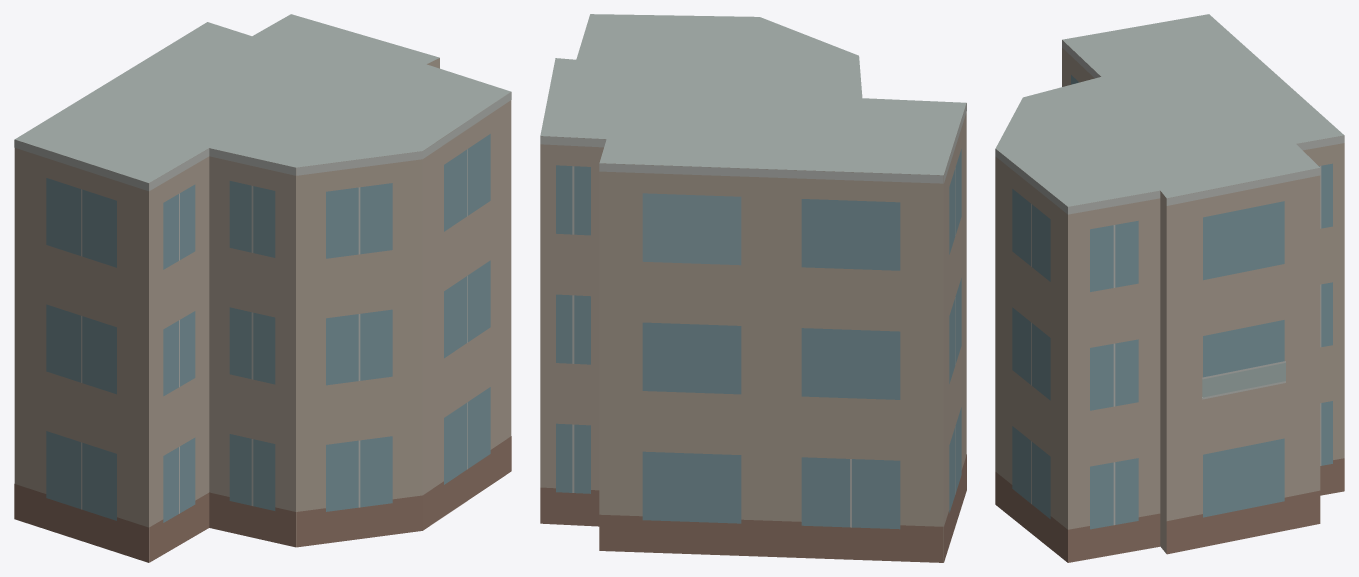
File: survey-upis-32486408.glb
The picture shows the model from 3 angles, left to right: view 1: azimuth 30°, elevation 25°; view 2: azimuth 150°, elevation 25°; view 3: azimuth 270°, elevation 25°; orthographic projection. The views are drawn at different scales.
Visible parts, largest first — view 1: survey-upis-32486408.tmp; view 2: survey-upis-32486408.tmp; view 3: survey-upis-32486408.tmp.
Boxes of the visible parts, bbox=[...] form: survey-upis-32486408.tmp: bbox=[14, 14, 511, 562]; survey-upis-32486408.tmp: bbox=[540, 14, 966, 562]; survey-upis-32486408.tmp: bbox=[995, 14, 1344, 562].
Bounding box in the file's own units: 13.14 × 11.3 × 10.05.
